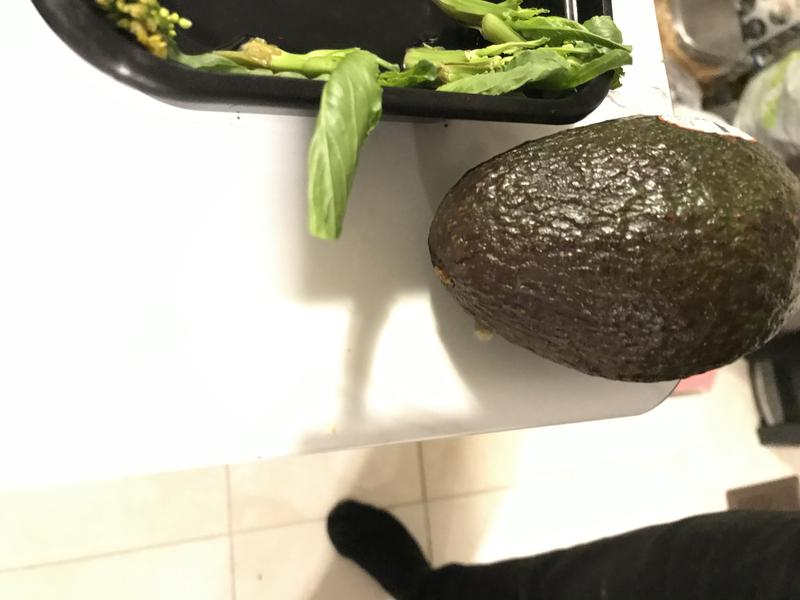avocado: (409, 103, 800, 392)
